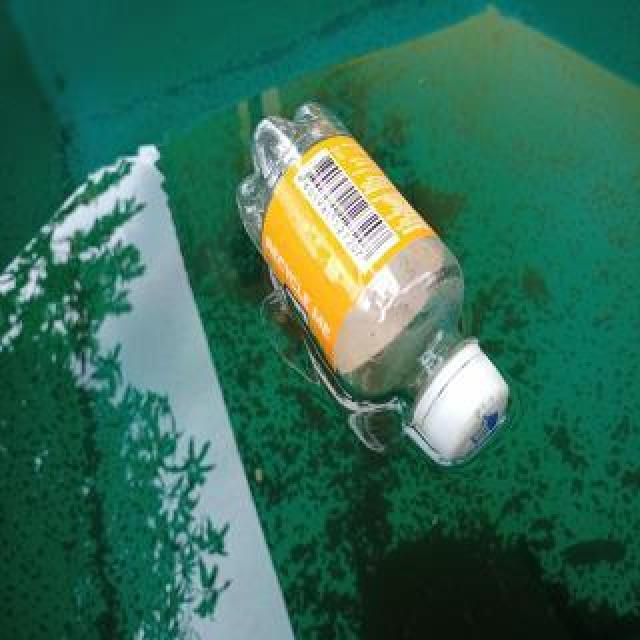bottle: (229, 97, 513, 475)
